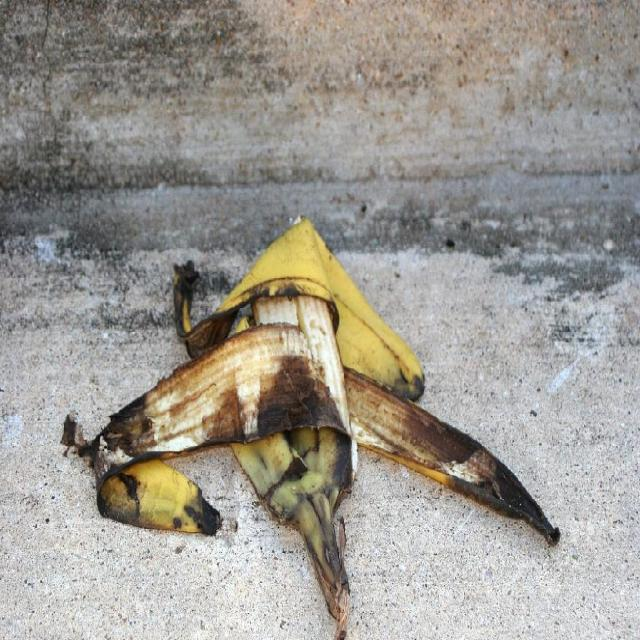Wet Waste: (58, 215, 563, 639)
